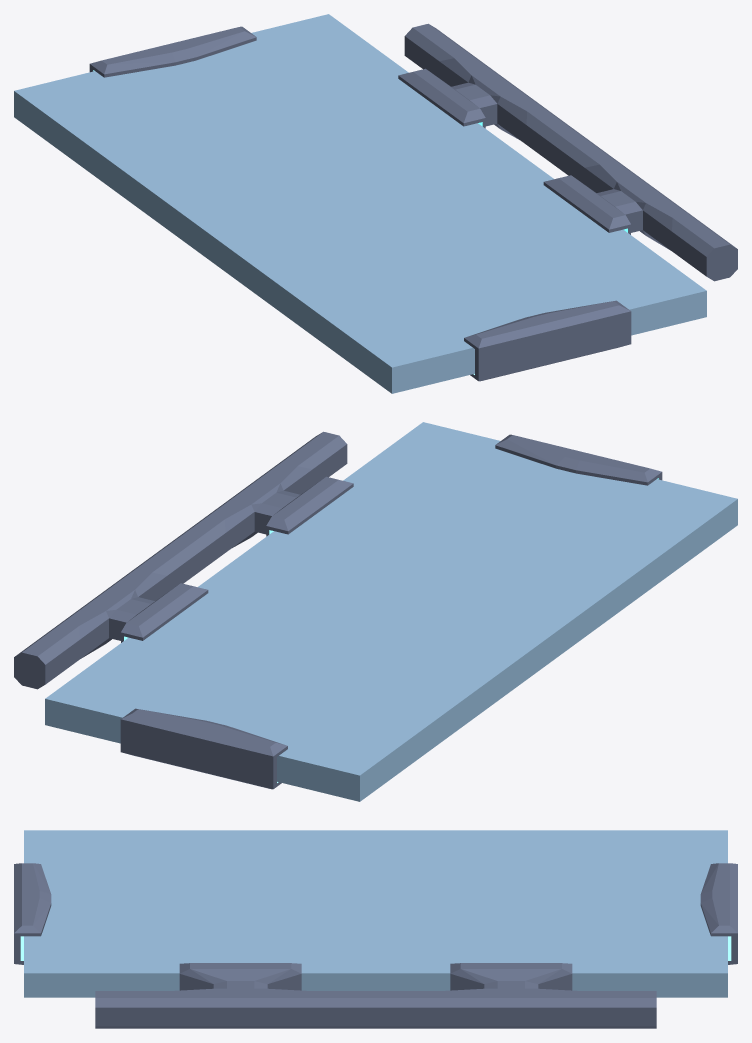
Rendered from MiniScreenLift.glb.
3 views of the same model, one above another, from view 1: azimuth 30°, elevation 25°; view 2: azimuth 150°, elevation 25°; view 3: azimuth 270°, elevation 25° (orthographic). The views are drawn at different scales.
Parts seen in each view (by area): view 1: MiniGlass.001, MiniGlassBottom, MiniGlassBorder.002, MiniGlassBorder.001; view 2: MiniGlass.001, MiniGlassBottom, MiniGlassBorder.001, MiniGlassBorder.002; view 3: MiniGlass.001, MiniGlassBottom, MiniGlassBorder.001, MiniGlassBorder.002.
Part boxes in pixels (x1,y1,x2,y2): MiniGlass.001: (14,14,706,393); MiniGlassBottom: (398,23,737,281); MiniGlassBorder.002: (464,300,631,381); MiniGlassBorder.001: (89,26,256,77); MiniGlass.001: (45,422,737,801); MiniGlassBottom: (14,431,353,689); MiniGlassBorder.001: (120,708,287,789); MiniGlassBorder.002: (495,434,662,485); MiniGlass.001: (24,830,727,997); MiniGlassBottom: (95,963,656,1028); MiniGlassBorder.001: (700,863,737,964); MiniGlassBorder.002: (14,863,51,964).
Bounding box in the file's own units: 0.61 × 0.066 × 1.07.
